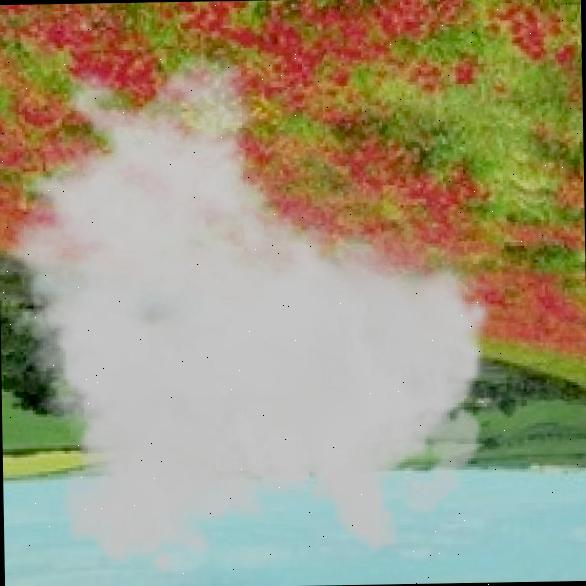smoke: (0, 47, 498, 580)
